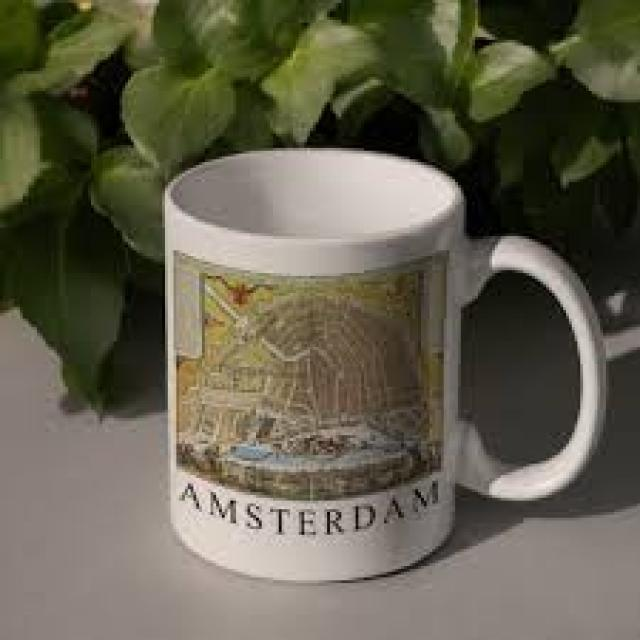taza: (164, 146, 606, 584)
